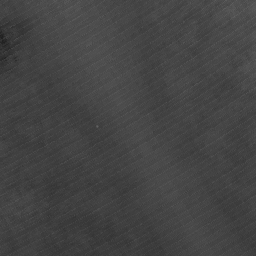Target: (94, 123, 101, 129)
